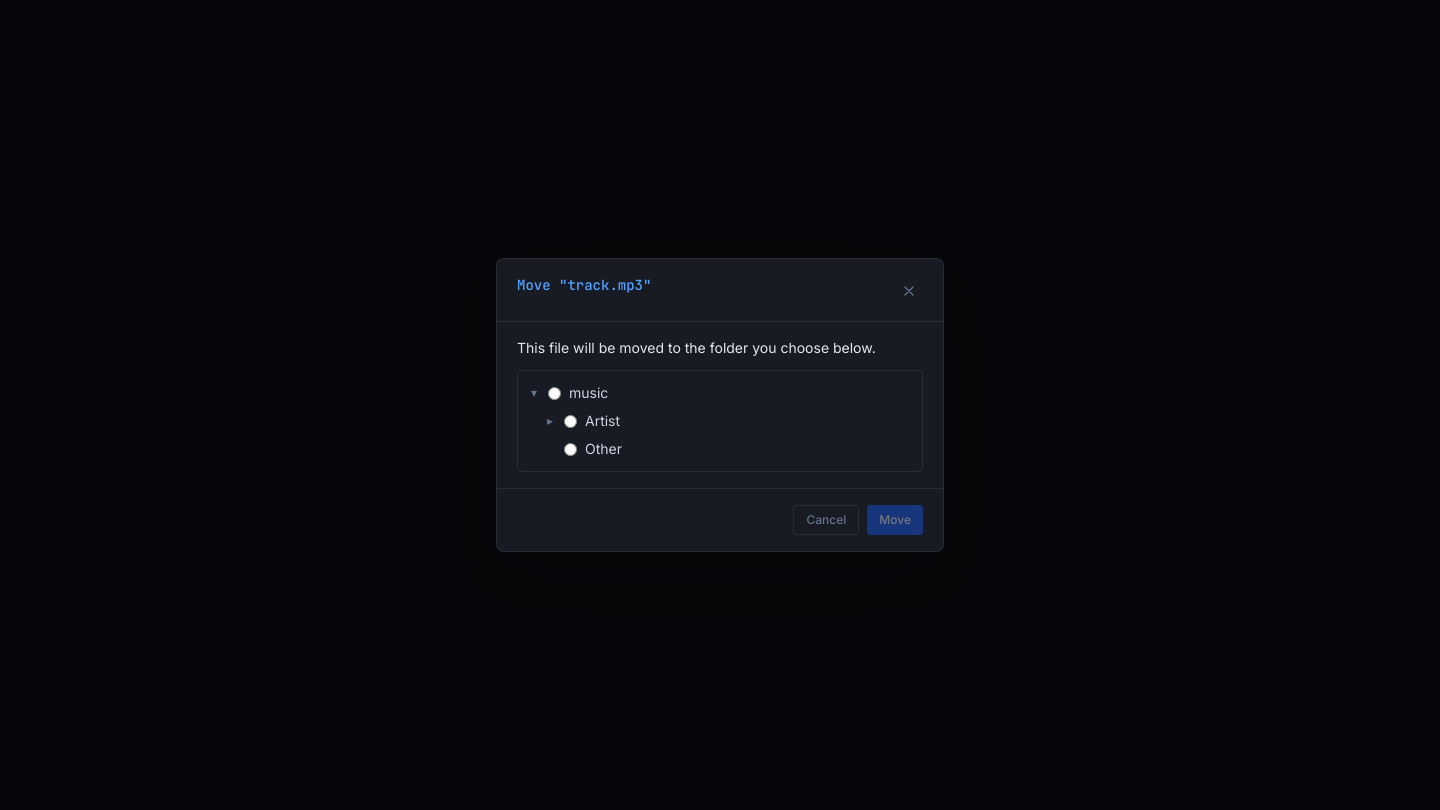
Scenario: CopyMoveDeleteDialog - Apply enablement › Apply is disabled for move until a destination is selected
Check: the button "Move" is disabled, box [867, 505, 923, 535]
Click the radio button labelled "Artist" at (570, 421), box [564, 414, 577, 428]
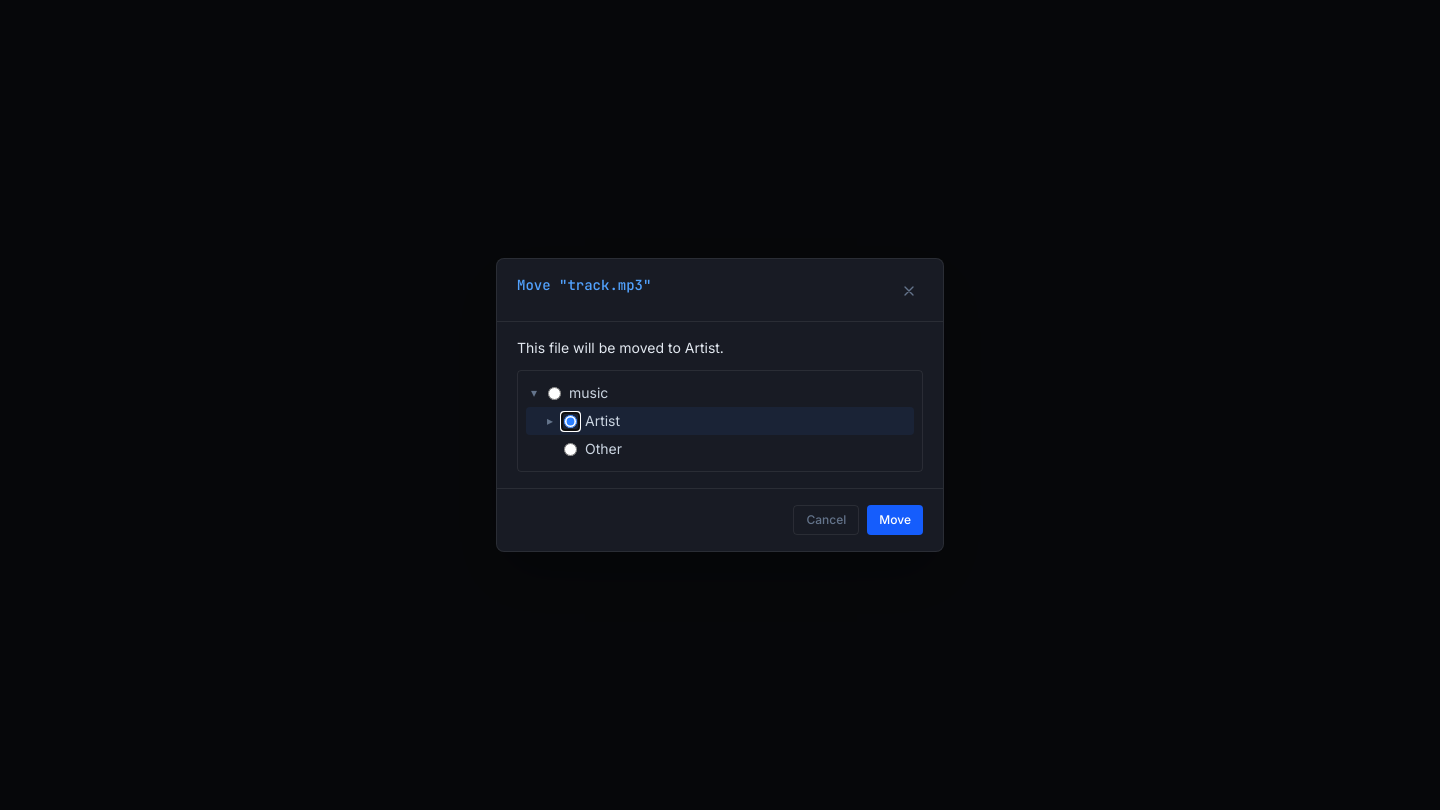
Check: the button "Move" is enabled, box [867, 505, 923, 535]
